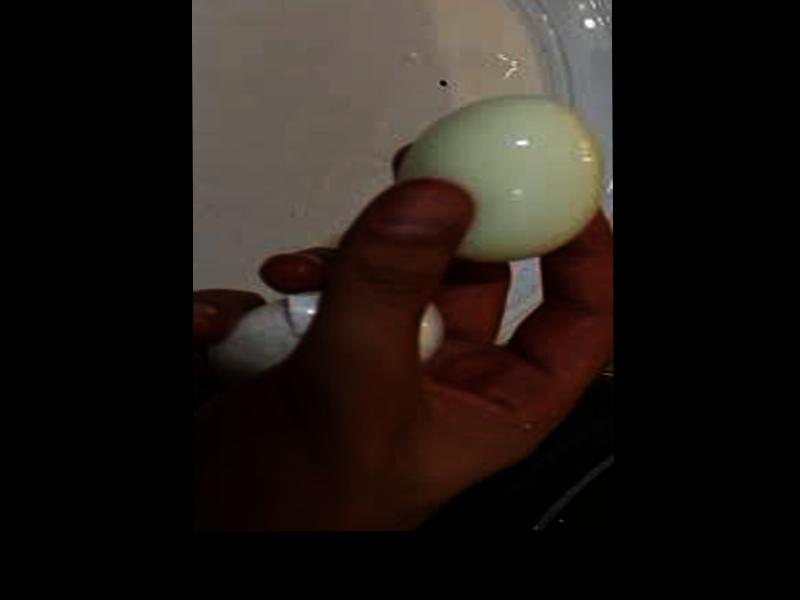Eggs: (393, 99, 609, 262)
